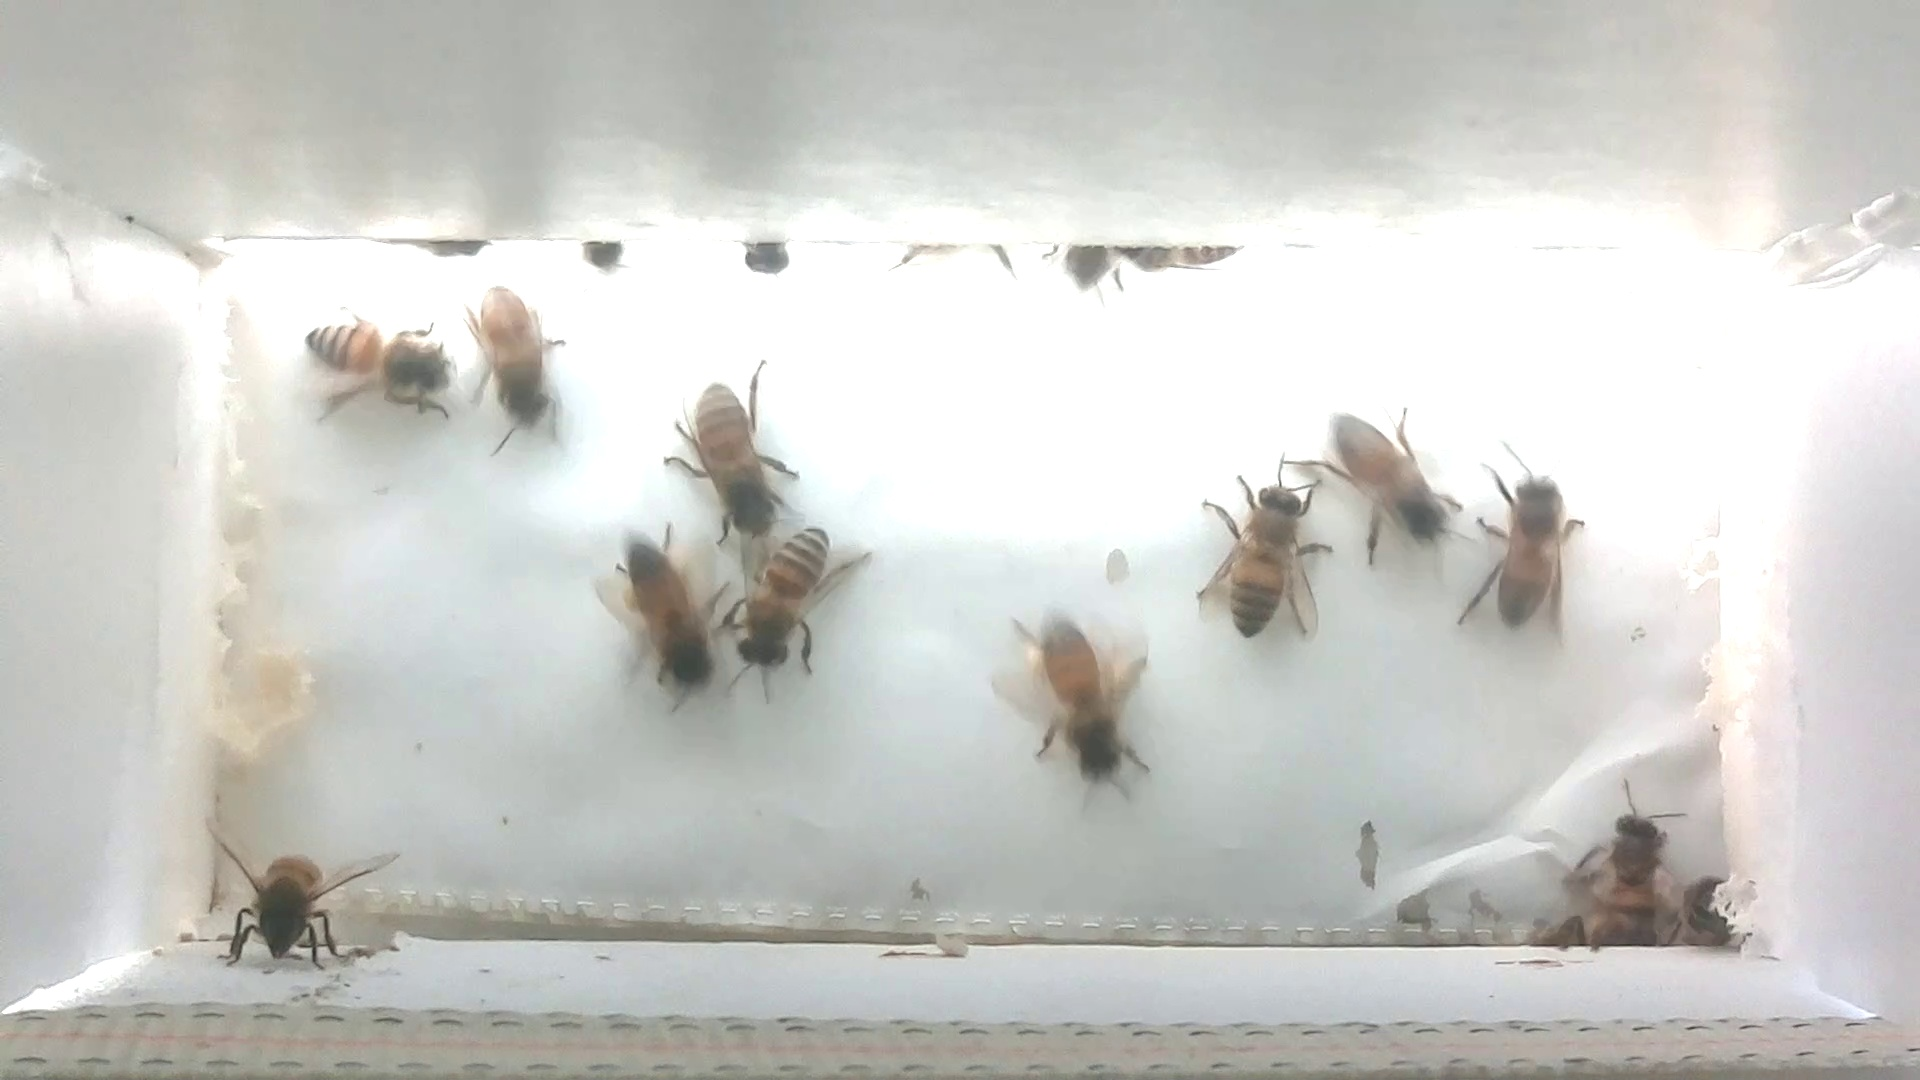bee: (994, 596, 1174, 796), (191, 814, 401, 978), (1284, 382, 1466, 564), (1188, 444, 1340, 651), (712, 505, 868, 703), (654, 363, 808, 545), (1460, 429, 1596, 634), (589, 521, 731, 715), (289, 291, 459, 438), (454, 272, 575, 451), (1576, 775, 1684, 942), (1116, 237, 1258, 289), (1669, 865, 1741, 953), (1048, 233, 1126, 303), (735, 235, 804, 287), (568, 240, 638, 285)
